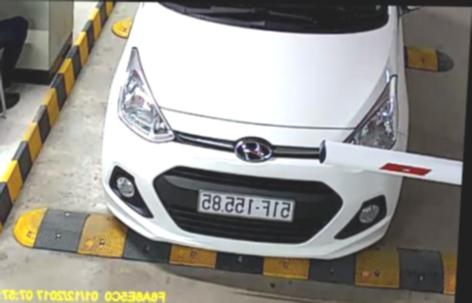License_Plate: (191, 190, 301, 219)
